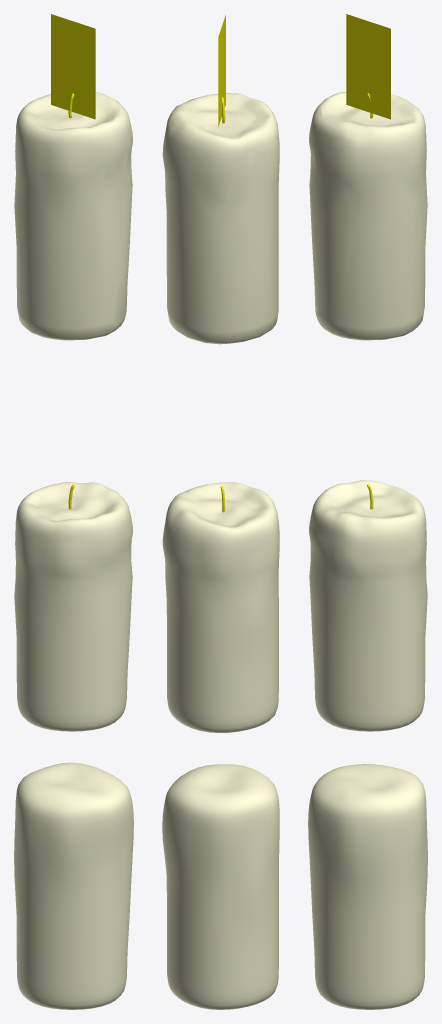
The model's file is vela.obj.
3 renders of one model, left to right at view 1: azimuth 90°, elevation 25°; view 2: azimuth 210°, elevation 25°; view 3: azimuth 270°, elevation 25°, orthographic.
Visible parts, largest first — view 1: Candle.002, Candle.001, Candle, Flame_(6_mins); view 2: Candle.002, Candle, Candle.001, Flame_(6_mins); view 3: Candle.002, Candle.001, Candle, Flame_(6_mins).
Part boxes in pixels (x1=…): Candle.002: x1=14, y1=482, x2=132, y2=731; Candle.001: x1=14, y1=762, x2=133, y2=1009; Candle: x1=14, y1=92, x2=132, y2=340; Flame_(6_mins): x1=51, y1=14, x2=95, y2=119; Candle.002: x1=162, y1=482, x2=279, y2=732; Candle: x1=162, y1=93, x2=279, y2=344; Candle.001: x1=162, y1=764, x2=279, y2=1009; Flame_(6_mins): x1=218, y1=15, x2=225, y2=126; Candle.002: x1=309, y1=480, x2=427, y2=731; Candle.001: x1=308, y1=764, x2=427, y2=1009; Candle: x1=309, y1=92, x2=427, y2=340; Flame_(6_mins): x1=346, y1=14, x2=390, y2=119.
Size of the model in its own units: 0.1175 by 1.07 by 0.1196.
Materials: 3 (3 with a texture image).
